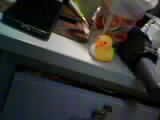duck: (85, 27, 118, 61)
